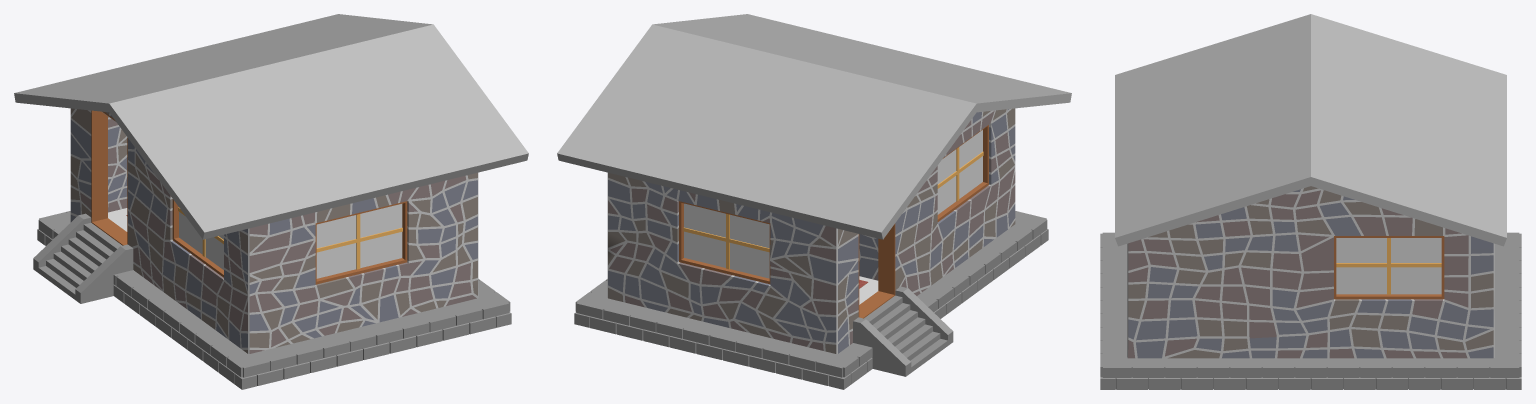
The model's file is MC_house.fbx.
3 views of the same model, side by side, from view 1: azimuth 30°, elevation 25°; view 2: azimuth 150°, elevation 25°; view 3: azimuth 270°, elevation 25° (orthographic). The views are drawn at different scales.
Parts seen in each view (by area): view 1: MC_house_LOD0; view 2: MC_house_LOD0; view 3: MC_house_LOD0.
Boxes of the visible parts, left/top/right/bottom form: MC_house_LOD0: left=14, top=14, right=528, bottom=389; MC_house_LOD0: left=557, top=14, right=1071, bottom=389; MC_house_LOD0: left=1100, top=14, right=1521, bottom=389.
Size of what is drawn, in the model's own units: 800 by 738 by 472.
